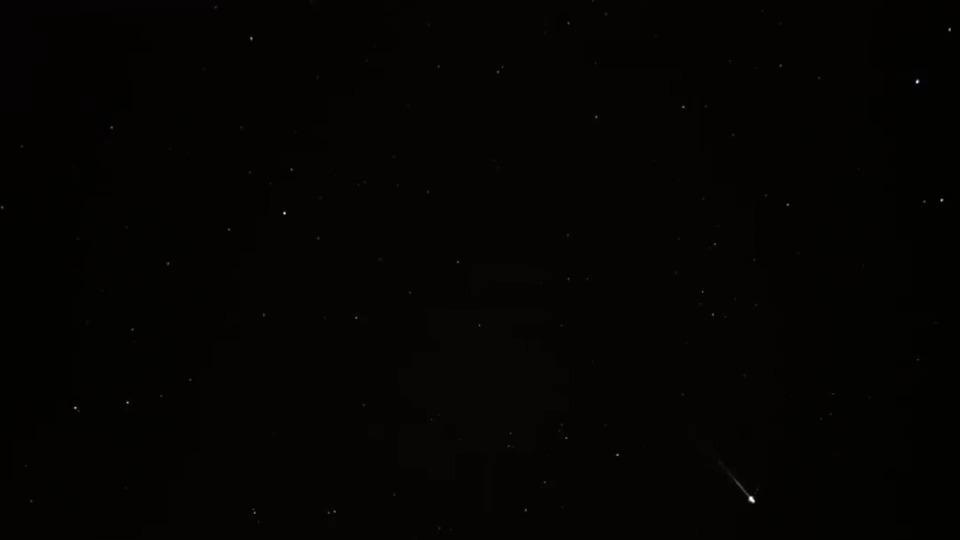meteorite: (663, 460, 789, 504)
